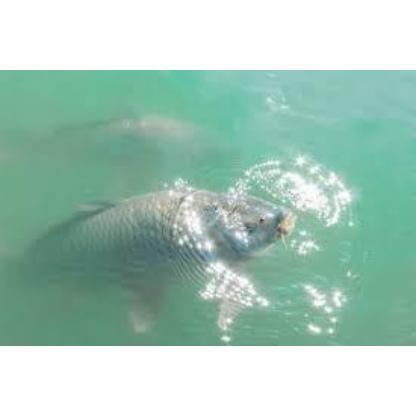ikan-mas: (15, 176, 298, 300)
